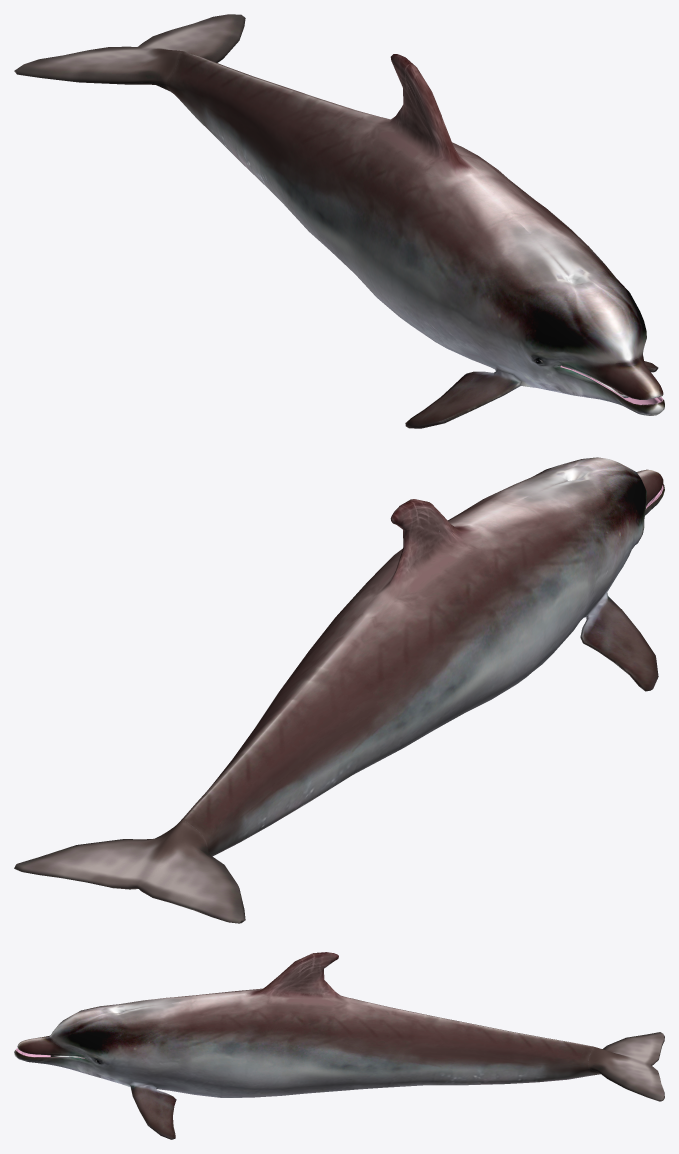
The model's file is dolphinA.glb.
The picture shows the model from 3 angles, top to bottom: view 1: azimuth 30°, elevation 25°; view 2: azimuth 150°, elevation 25°; view 3: azimuth 270°, elevation 25°; orthographic projection. The views are drawn at different scales.
Parts seen in each view (by area): view 1: uploads_files_178412_dolphin_OBJ; view 2: uploads_files_178412_dolphin_OBJ; view 3: uploads_files_178412_dolphin_OBJ.
Boxes of the visible parts, x1,y1,x2,y2 form: uploads_files_178412_dolphin_OBJ: [14, 14, 664, 428]; uploads_files_178412_dolphin_OBJ: [14, 457, 664, 923]; uploads_files_178412_dolphin_OBJ: [14, 952, 664, 1139].
Bounding box in the file's own units: 0.5278 × 0.5075 × 1.97.
Materials: 1 (1 with a texture image).
